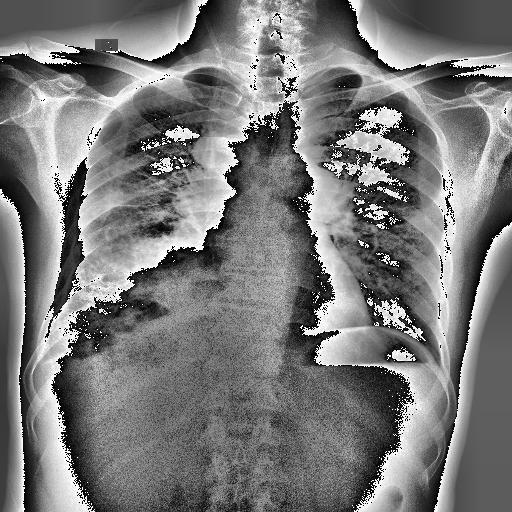0- Aortic enlargement: (284, 154, 343, 229)
10- Pleural effusion: (30, 351, 59, 379)
11- Pleural thickening: (30, 351, 59, 379)
4- Consolidation: (51, 193, 220, 365), (45, 240, 210, 357)
7- Lung Opacity: (51, 193, 220, 365), (45, 240, 210, 357), (191, 120, 252, 186), (195, 128, 253, 178)
8- Nodule-Mass: (86, 240, 212, 318), (285, 168, 341, 216), (188, 127, 248, 171)
9- Other lesion: (42, 242, 206, 376), (285, 168, 341, 216), (188, 127, 248, 171)
